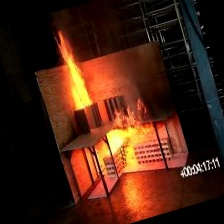fire: (39, 15, 109, 127), (85, 102, 166, 184)
